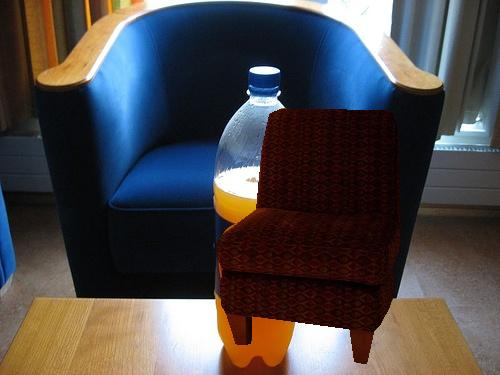tampered: (217, 109, 401, 364)
